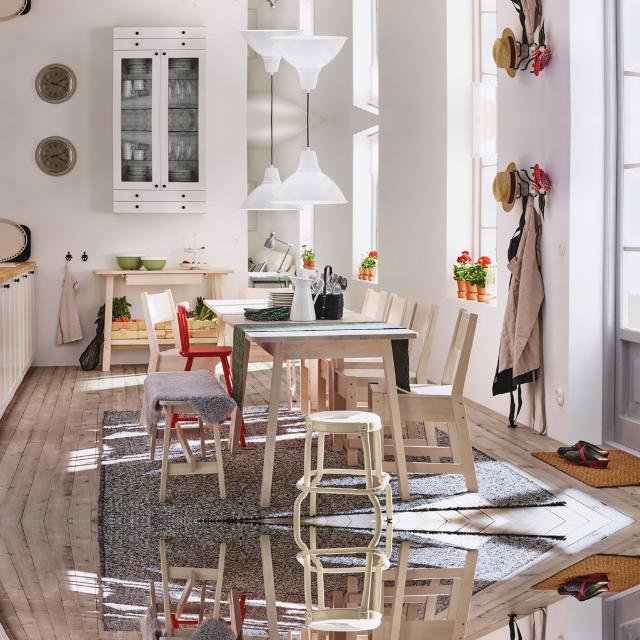clock: (35, 135, 76, 175), (35, 63, 76, 103)
light: (271, 120, 348, 204), (271, 34, 348, 118), (240, 128, 302, 209), (240, 29, 302, 110)
plant: (454, 250, 471, 297), (475, 255, 491, 301), (465, 265, 478, 300)
rug: (99, 405, 304, 520), (99, 522, 304, 636), (390, 448, 564, 512), (390, 530, 564, 594), (531, 449, 640, 488), (531, 554, 640, 593), (316, 526, 374, 548), (316, 494, 374, 515)
shelf: (113, 119, 206, 212), (113, 26, 206, 119)
stool: (294, 410, 392, 520), (294, 522, 392, 632)
table: (94, 266, 234, 370), (151, 400, 226, 503), (151, 539, 226, 640)
